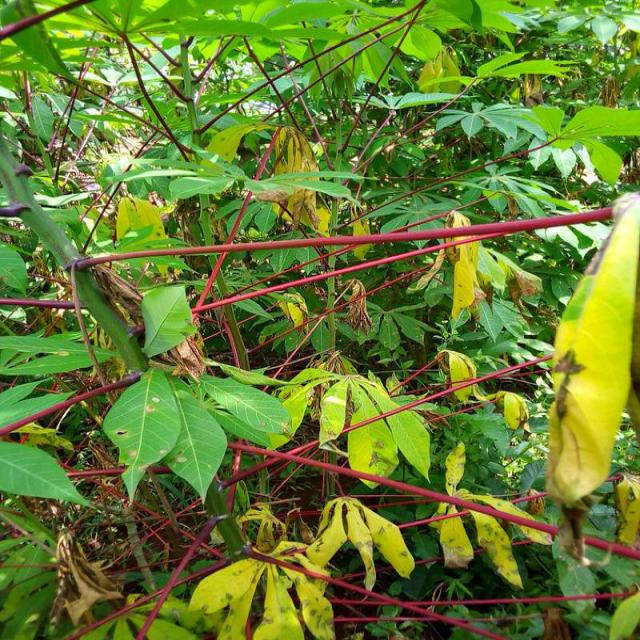cassava leaf: (545, 192, 640, 509), (104, 366, 182, 501)
